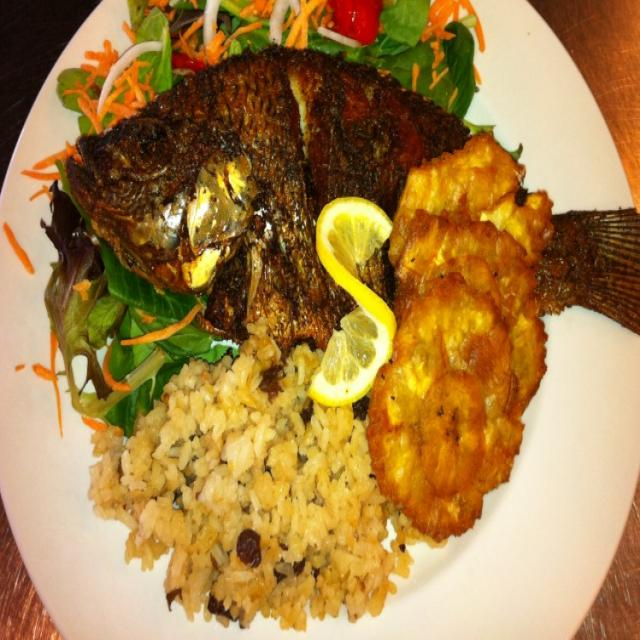FISH FRY: (36, 42, 640, 333)
